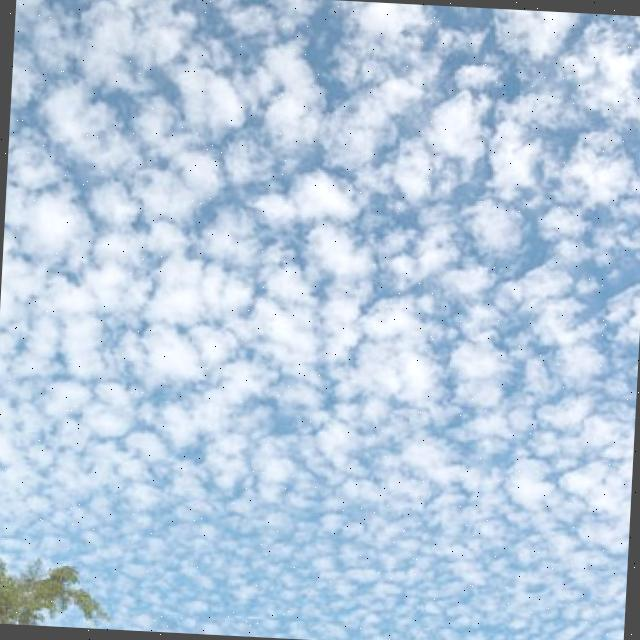Cc: (1, 1, 640, 487)
